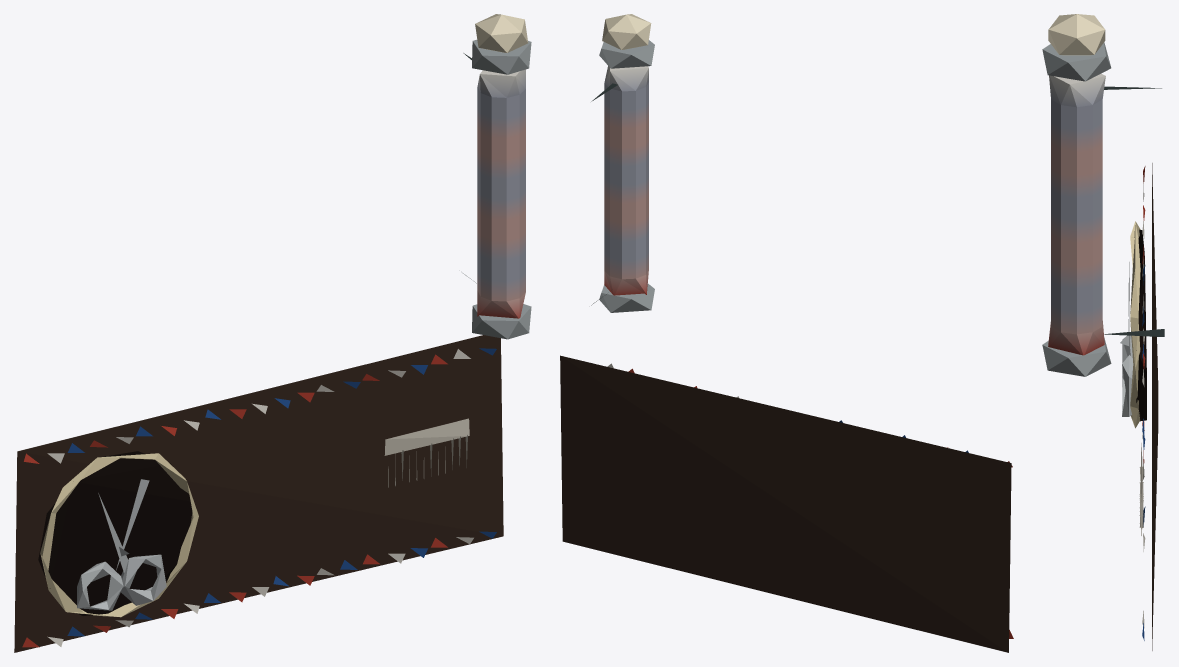
Rendered from bang_hot_toc_anh_ba_32.glb.
3 views of the same model, side by side, from view 1: azimuth 30°, elevation 25°; view 2: azimuth 150°, elevation 25°; view 3: azimuth 270°, elevation 25° (orthographic). The views are drawn at different scales.
Visible parts, largest first — view 1: bang_hot_toc_anh_ba_32; view 2: bang_hot_toc_anh_ba_32; view 3: bang_hot_toc_anh_ba_32.
Boxes of the visible parts, <box> form: bang_hot_toc_anh_ba_32: <box>14,14,531,652</box>; bang_hot_toc_anh_ba_32: <box>560,14,1013,652</box>; bang_hot_toc_anh_ba_32: <box>1042,14,1164,650</box>.
Bounding box in the file's own units: 3 × 3.27 × 0.5854.
